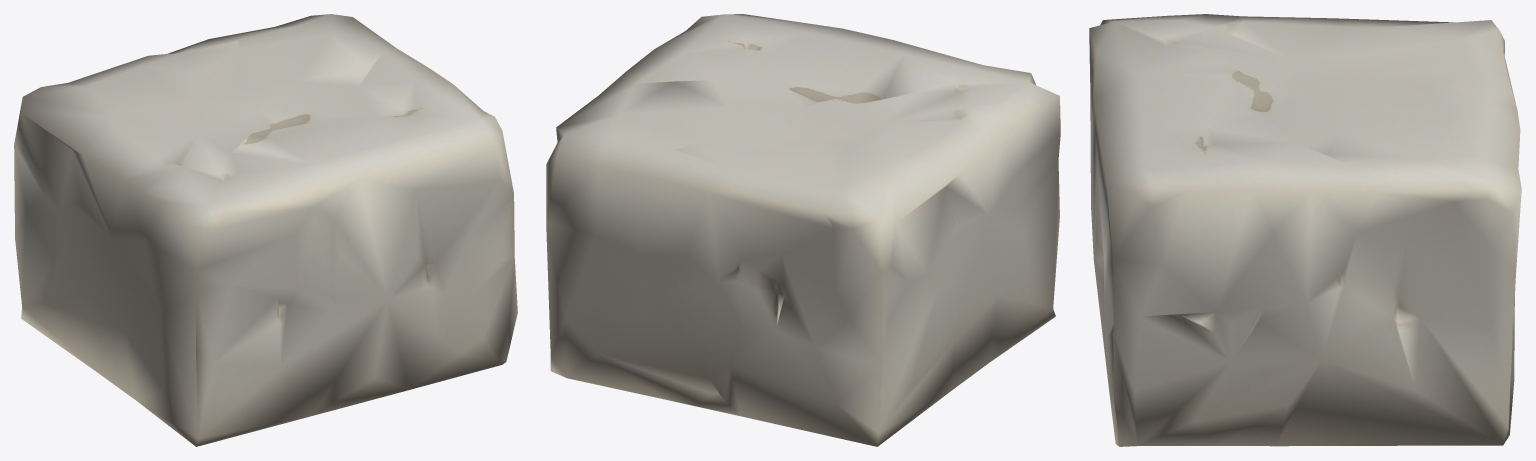
File: TOUHU.obj
3 renders of one model, left to right at view 1: azimuth 30°, elevation 25°; view 2: azimuth 150°, elevation 25°; view 3: azimuth 270°, elevation 25°, orthographic. The views are drawn at different scales.
Parts seen in each view (by area): view 1: tripo_node_518d702f; view 2: tripo_node_518d702f; view 3: tripo_node_518d702f.
Boxes of the visible parts, <box> form: tripo_node_518d702f: <box>14,14,517,446</box>; tripo_node_518d702f: <box>546,14,1060,446</box>; tripo_node_518d702f: <box>1089,14,1521,446</box>.
Size of the model in its own units: 0.9981 by 0.6747 by 0.9748.
1 material, 1 textured.
